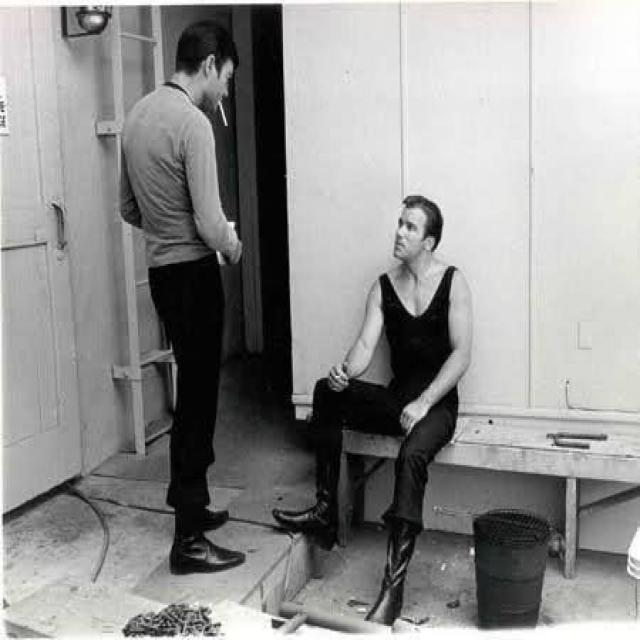smoke: (216, 100, 236, 129)
